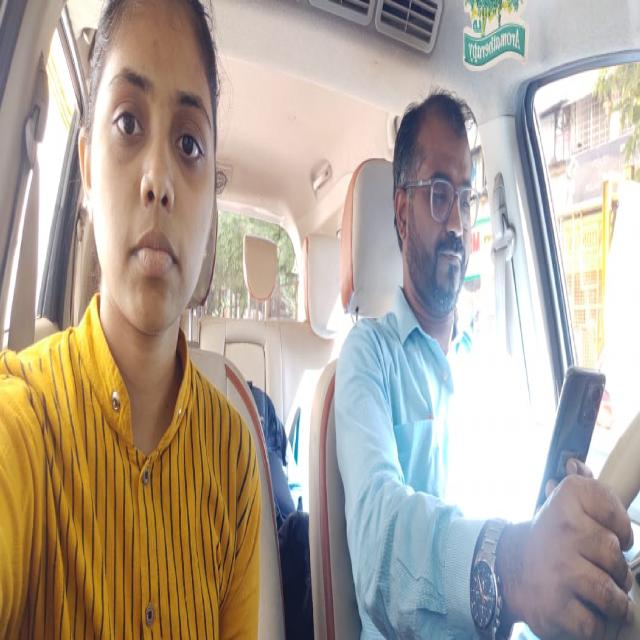mobile: (531, 343, 607, 526)
person: (77, 0, 226, 341), (392, 89, 479, 332)
